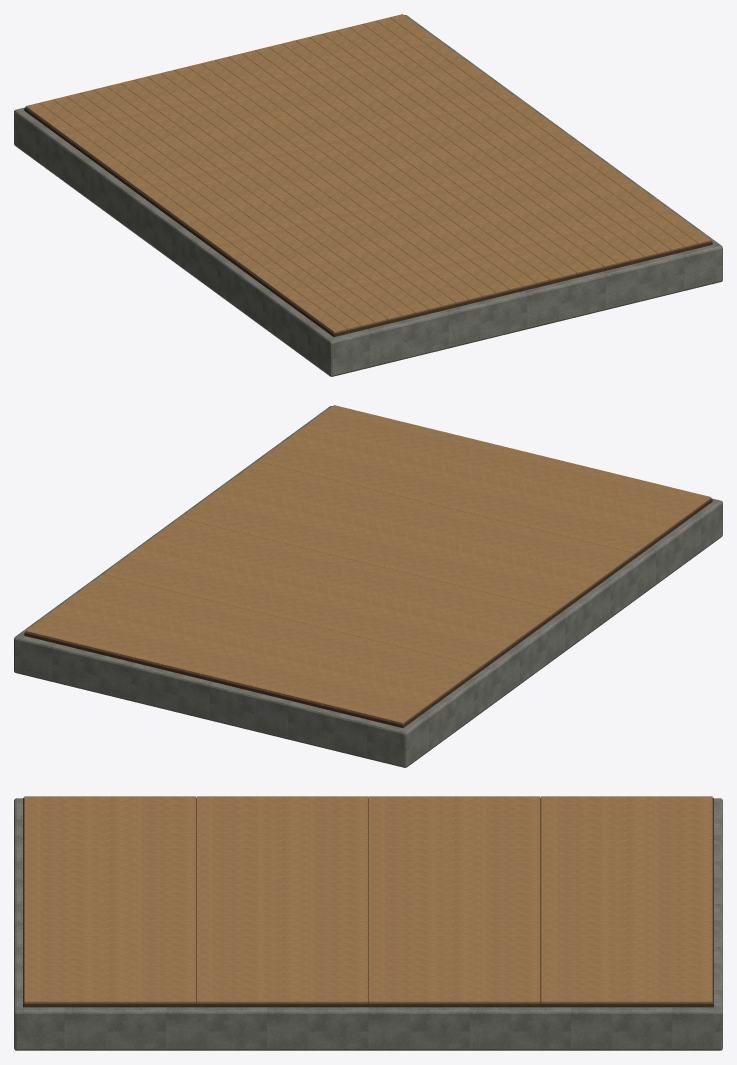
File: cabin_floor.glb
3 views of the same model, one above another, from view 1: azimuth 30°, elevation 25°; view 2: azimuth 150°, elevation 25°; view 3: azimuth 270°, elevation 25° (orthographic). The views are drawn at different scales.
Parts seen in each view (by area): view 1: Floor; view 2: Floor; view 3: Floor.
Boxes of the visible parts, box(x1,y1,x2,y2) form: Floor: box(14, 14, 722, 376); Floor: box(14, 405, 722, 767); Floor: box(14, 796, 722, 1050).
Bounding box in the file's own units: 5 × 0.5 × 7.
Materials: 3 (3 with a texture image).
